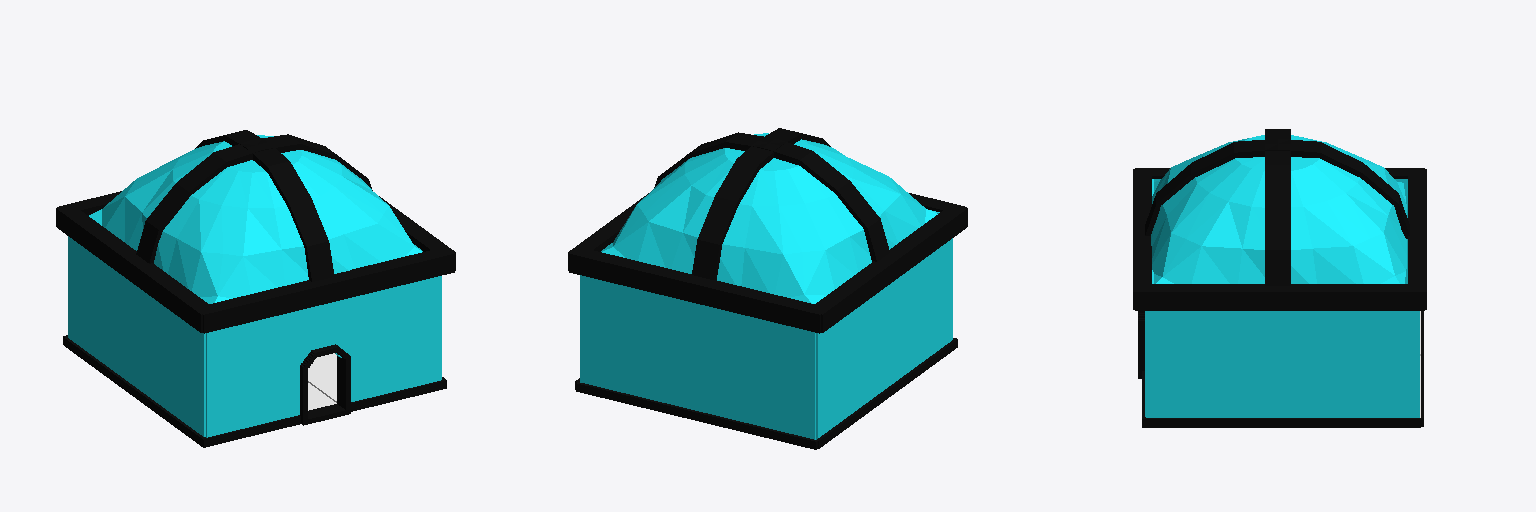
3 views of the same model, side by side, from view 1: azimuth 30°, elevation 25°; view 2: azimuth 150°, elevation 25°; view 3: azimuth 270°, elevation 25° (orthographic).
Parts seen in each view (by area): view 1: base_line128, Sphere001, Box001, base_line129, base_floor001; view 2: base_line128, Sphere001, Box001, base_line129; view 3: base_line128, Sphere001, Box001, base_line129.
Part boxes in pixels (x1,y1,x2,y2): base_line128: (68, 236, 441, 437); Sphere001: (89, 135, 422, 303); Box001: (56, 130, 455, 333); base_line129: (63, 335, 446, 447); base_floor001: (308, 353, 336, 410); base_line128: (580, 210, 952, 439); Sphere001: (601, 133, 937, 303); Box001: (568, 128, 967, 333); base_line129: (575, 338, 957, 449); base_line128: (1145, 179, 1419, 417); Sphere001: (1151, 135, 1406, 283); Box001: (1133, 129, 1426, 310); base_line129: (1138, 311, 1423, 427).
Size of the model in its own units: 0.8015 by 0.6727 by 0.8024.